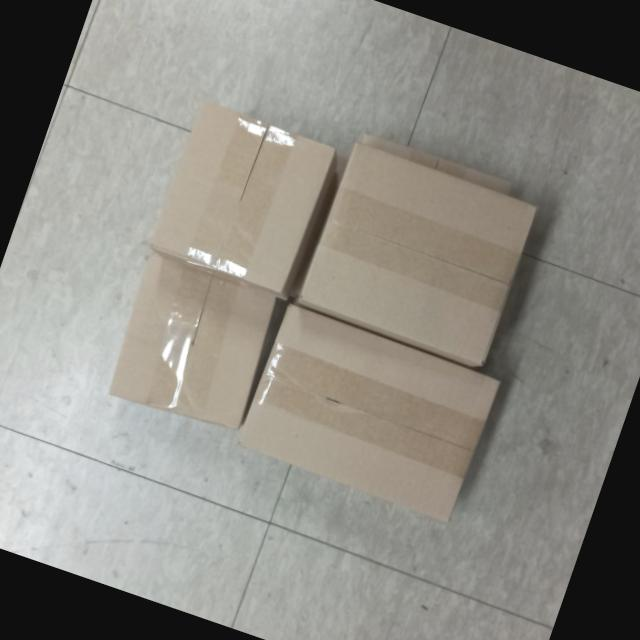box: (224, 293, 511, 535), (289, 134, 546, 374), (141, 92, 343, 304), (97, 249, 291, 446)
